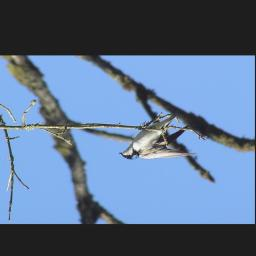Swallow: (118, 111, 197, 161)
